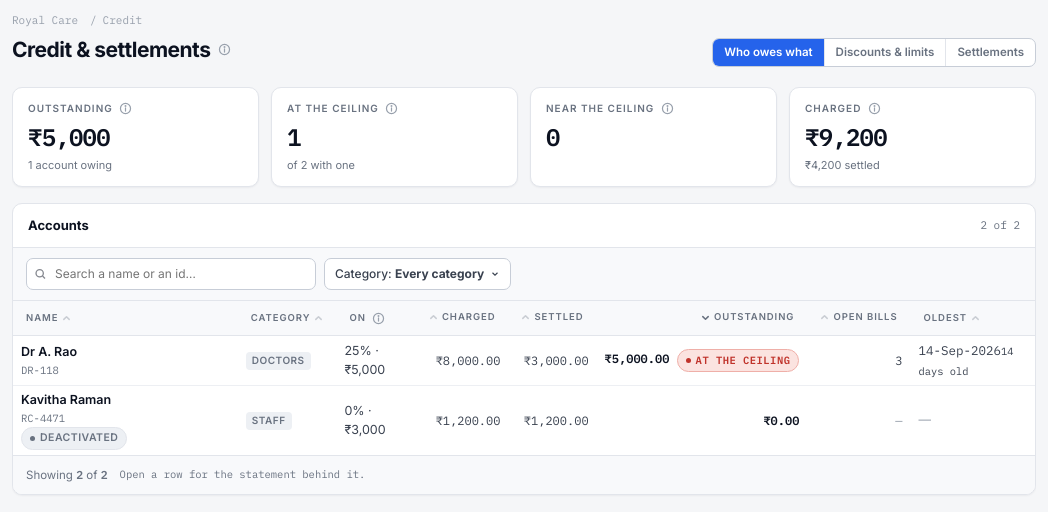
Scenario: settlements › offers Void only on a payment taken today
What coordinates should you click on to do the following:
click the button "Settlements"
I would click on:
 (991, 52)
Its box is top-left (946, 38), bottom-right (1035, 66).
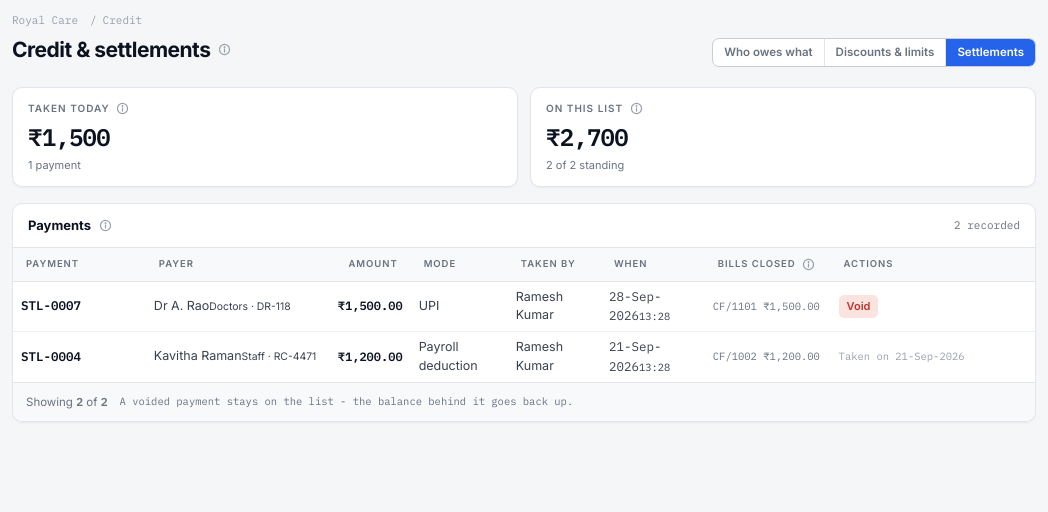
Result: the row that starts with "STL-0007" is shown at top-left (21, 297), bottom-right (81, 313)
Result: the row that starts with "STL-0004" shows "Taken on" at top-left (839, 349), bottom-right (895, 363)
